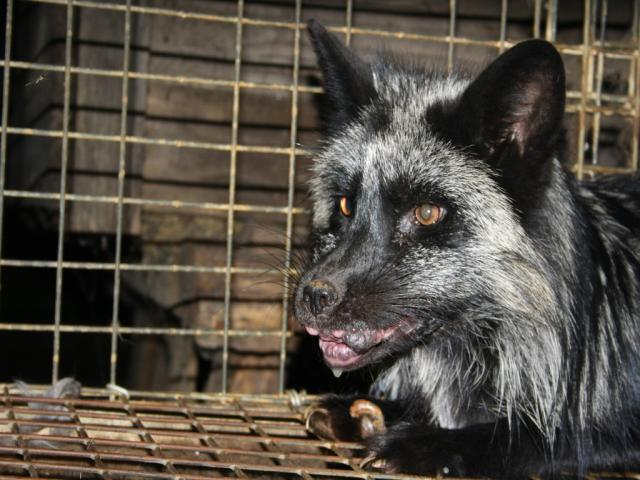Dog: (243, 17, 640, 480)
